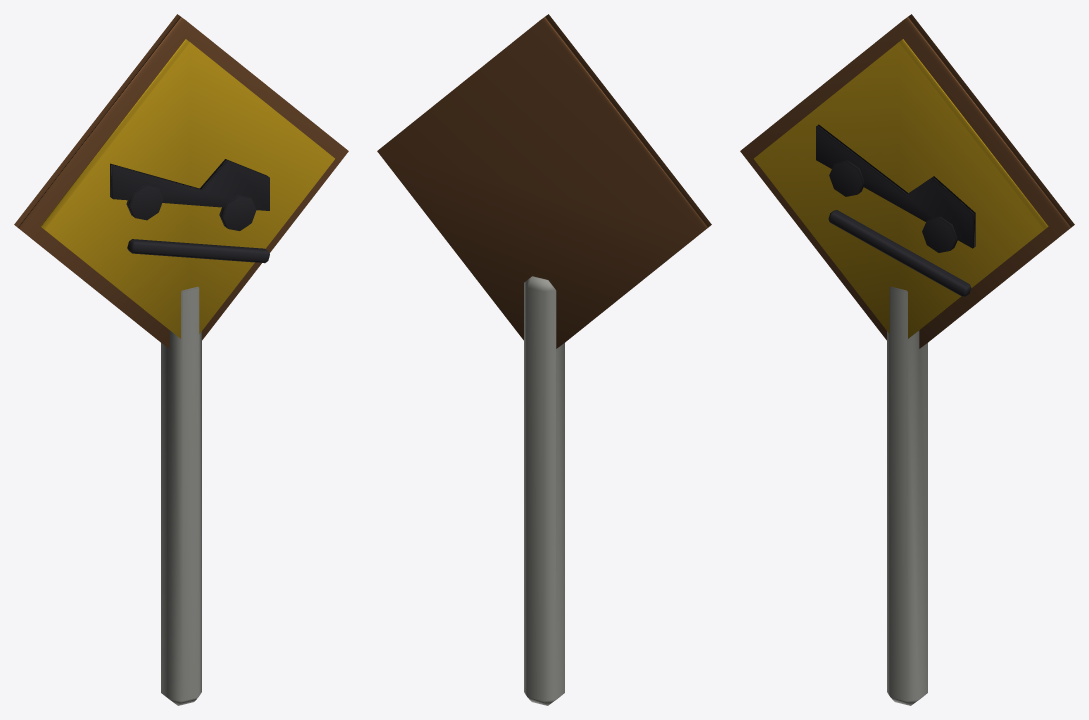
File: warning_sign.glb
The picture shows the model from 3 angles, left to right: view 1: azimuth 30°, elevation 25°; view 2: azimuth 150°, elevation 25°; view 3: azimuth 330°, elevation 25°; orthographic projection.
Visible parts, largest first — view 1: Sign post; view 2: Sign post; view 3: Sign post.
Boxes of the visible parts, x1,y1,x2,y2 form: Sign post: (14,14,348,705); Sign post: (377,14,711,705); Sign post: (740,14,1074,705).
Bounding box in the file's own units: 1.02 × 2.04 × 0.1345.
